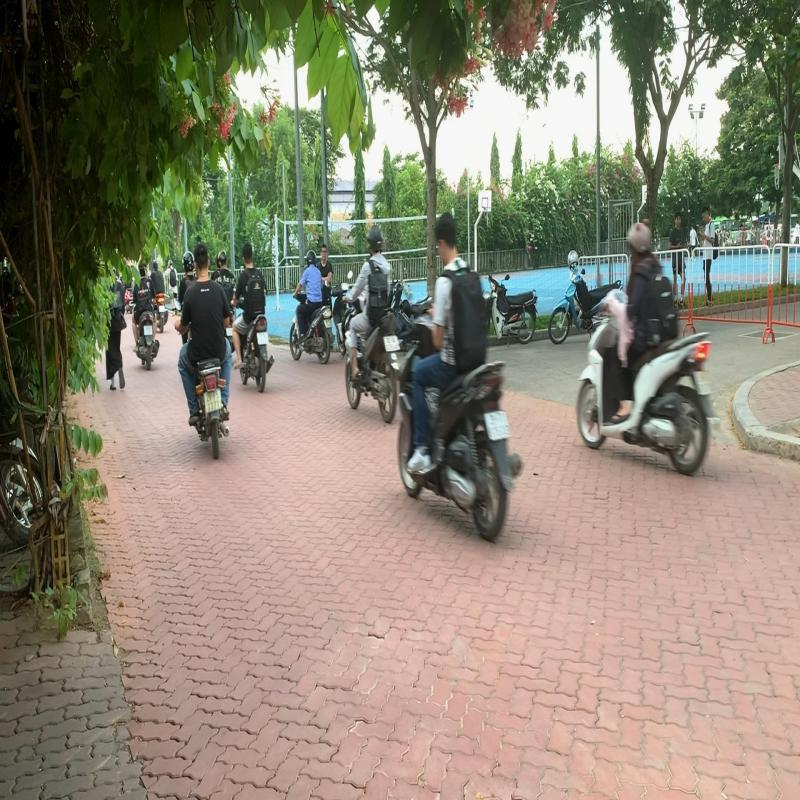licenseplate: (204, 390, 222, 412)
motorcyclist: (172, 242, 236, 458)
nohelmet: (194, 245, 210, 276)
